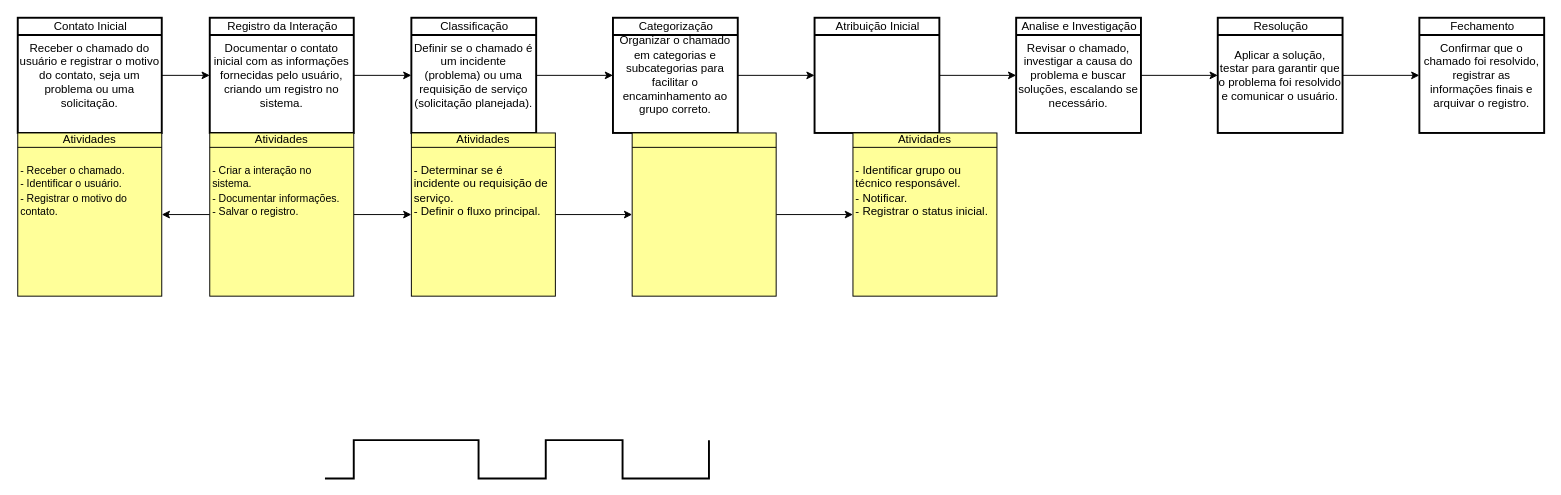
The diagram is 1561 pixels wide and 495 high, and some of its shapes have lost their labels. The shapes that lost their labels are listed below. From the top down, each one's box as (x1, y1, x2, y2) in pixels, then its label:
(813, 16, 940, 133): Enviar o chamado para a equipe ou técnico responsável com base na categorização.
(631, 132, 776, 296): Atividades - Atribuir categoria, subcategoria e item de configuração.
